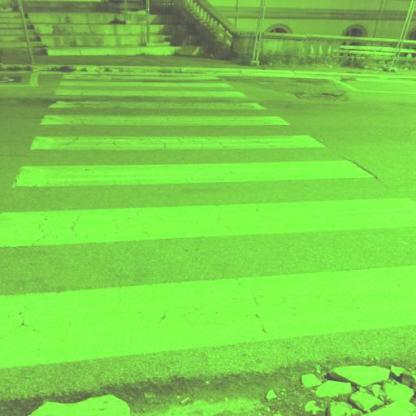crosswalk: (1, 197, 416, 370), (26, 112, 333, 154)
